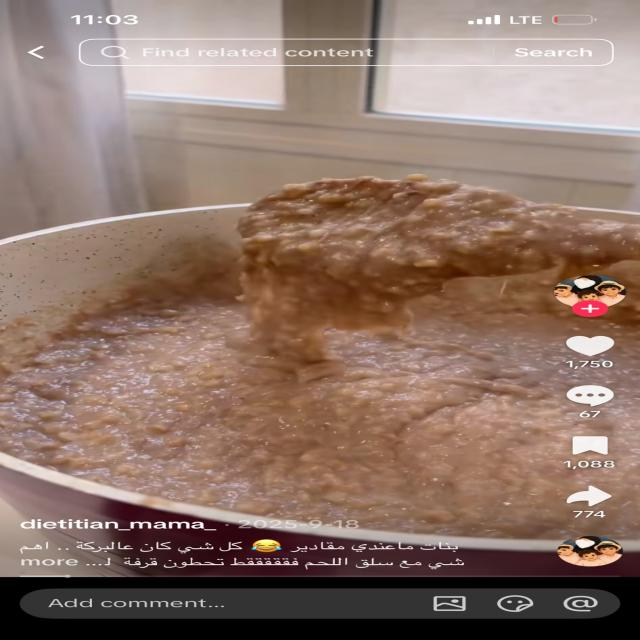Harees: (3, 168, 640, 545)
